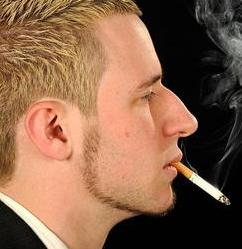smoke: (167, 156, 235, 212)
